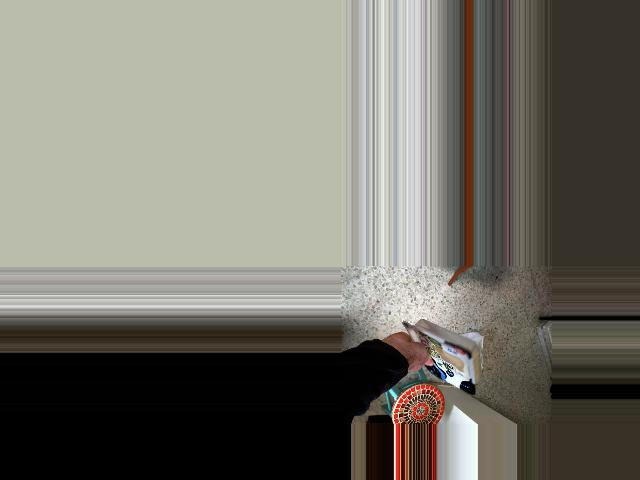cheese: (384, 310, 484, 408)
